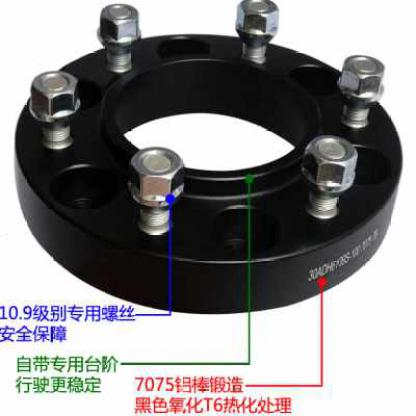FOD: (12, 26, 407, 319)
